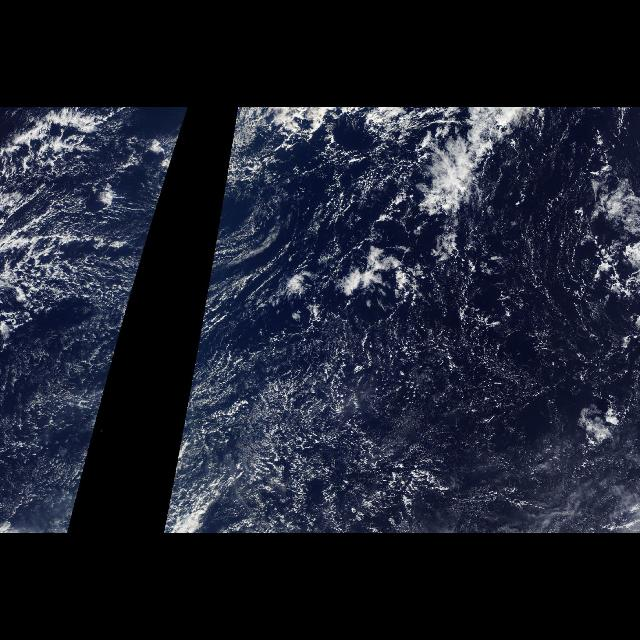Gravel: (216, 139, 640, 529)
Sugar: (200, 294, 636, 524)
